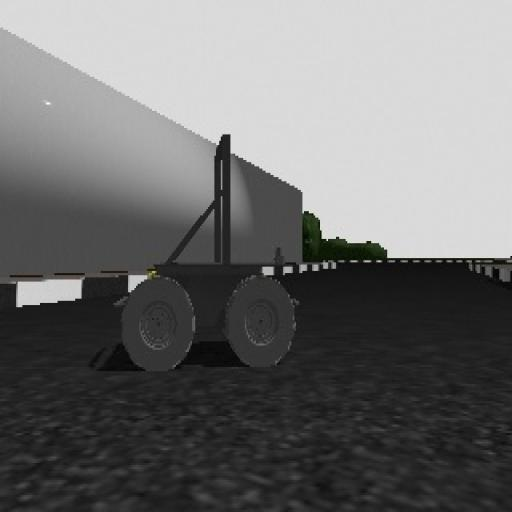huskya200: (97, 126, 321, 404)
